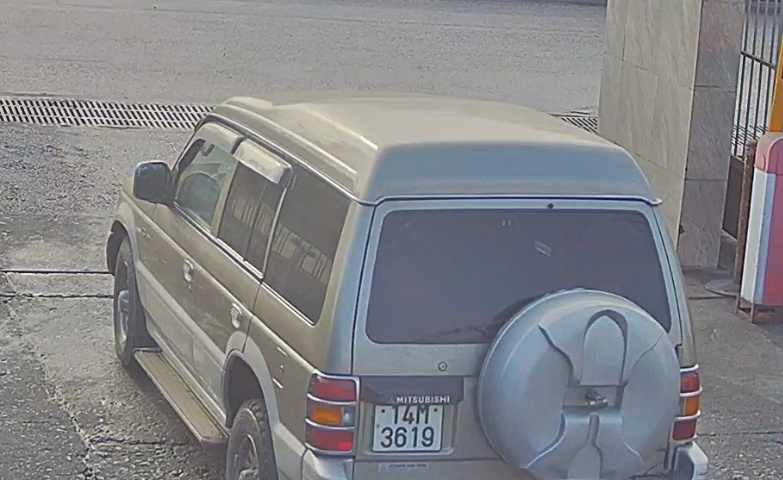vehicle plate: (367, 396, 447, 454)
